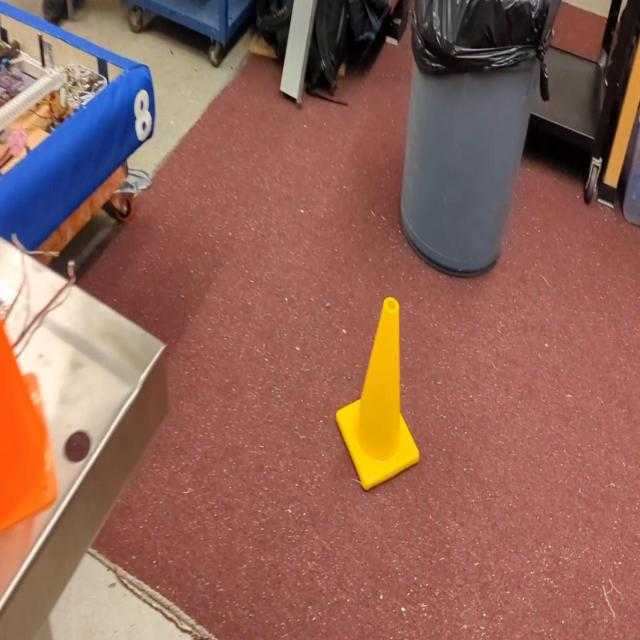frc_cone: (335, 293, 420, 490)
